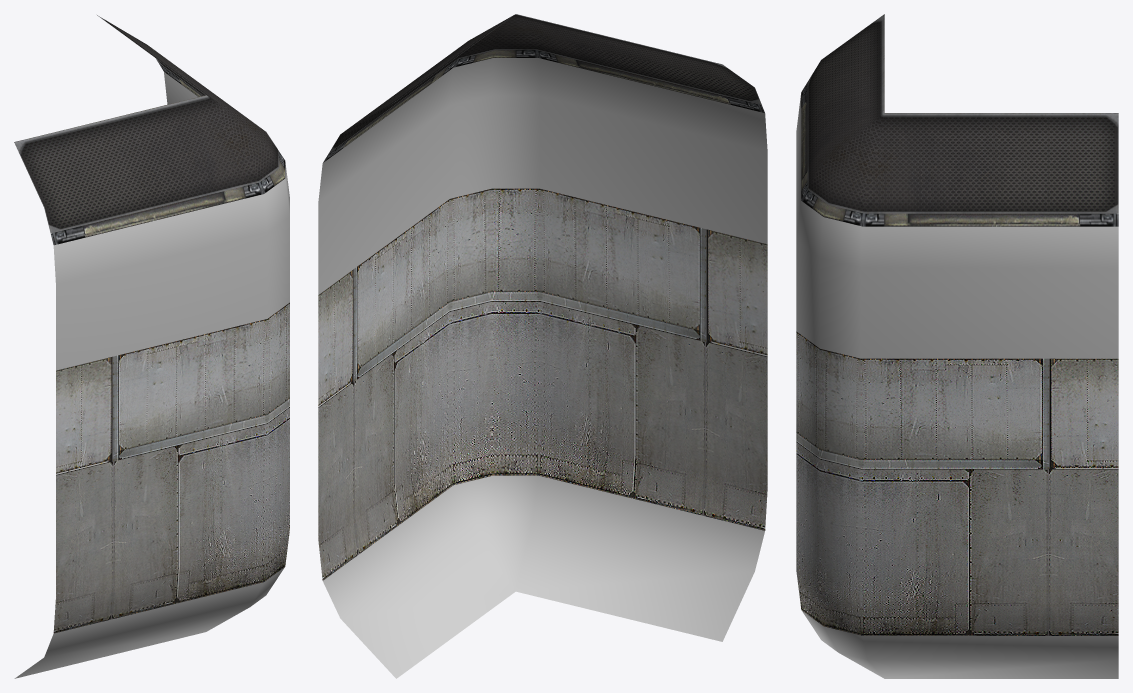
The model's file is Wall_L_Mid4mts_13.fbx.
3 renders of one model, left to right at view 1: azimuth 30°, elevation 25°; view 2: azimuth 150°, elevation 25°; view 3: azimuth 270°, elevation 25°, orthographic. The views are drawn at different scales.
Parts seen in each view (by area): view 1: Wall_L_Mid4mts_13; view 2: Wall_L_Mid4mts_13; view 3: Wall_L_Mid4mts_13.
Boxes of the visible parts, x1,y1,x2,y2 form: Wall_L_Mid4mts_13: (14,15,289,678); Wall_L_Mid4mts_13: (318,14,767,678); Wall_L_Mid4mts_13: (796,14,1118,678).
Size of the model in its own units: 206 by 400 by 206.
